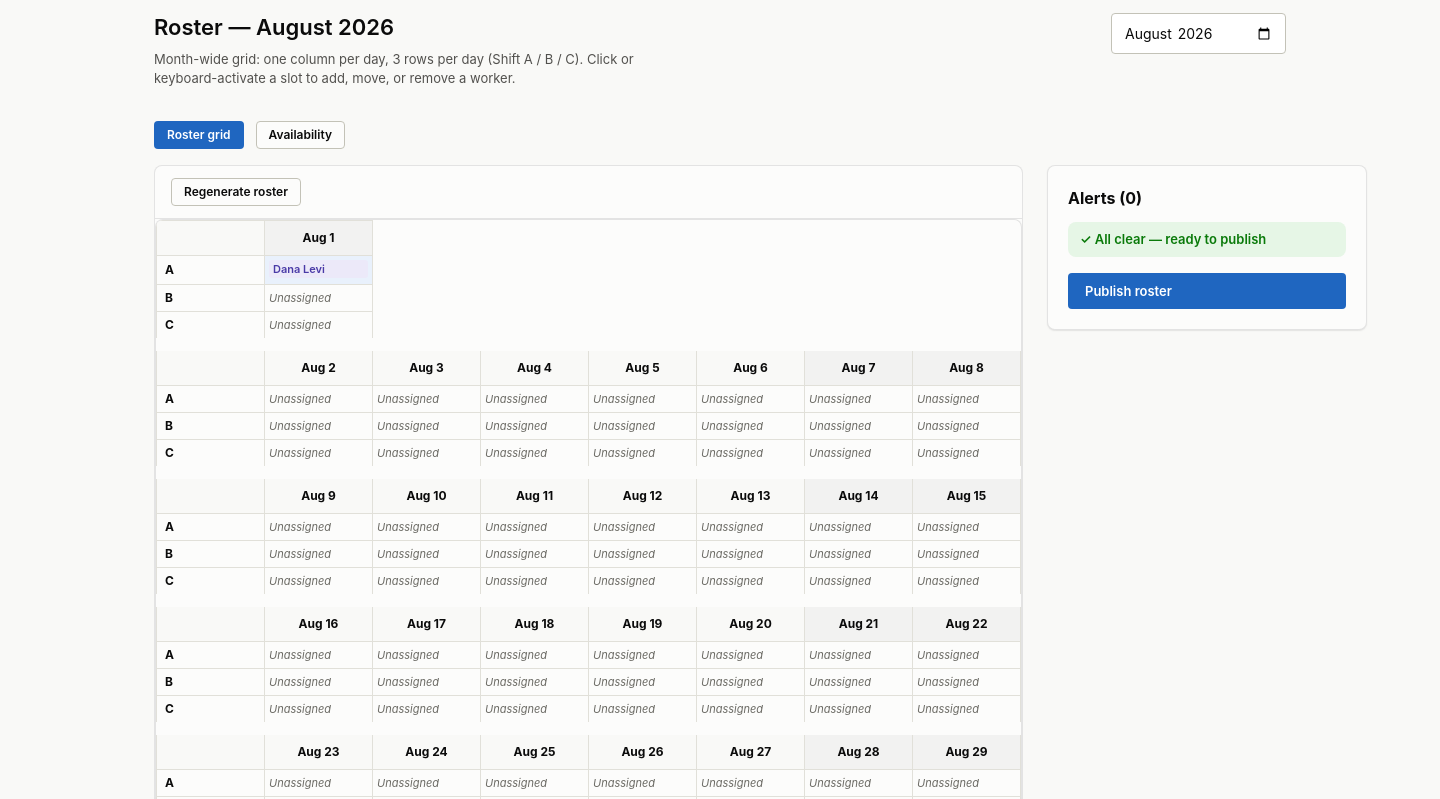
Test: RosterPage › switches to the Availability tab and renders the availability grid instead of the roster calendar
This screenshot has width=1440, height=799.
expect the button "Regenerate roster" is shown: met, box [171,178,301,206]
Click the tab "Availability".
click(300, 135)  # box [256,121,345,149]
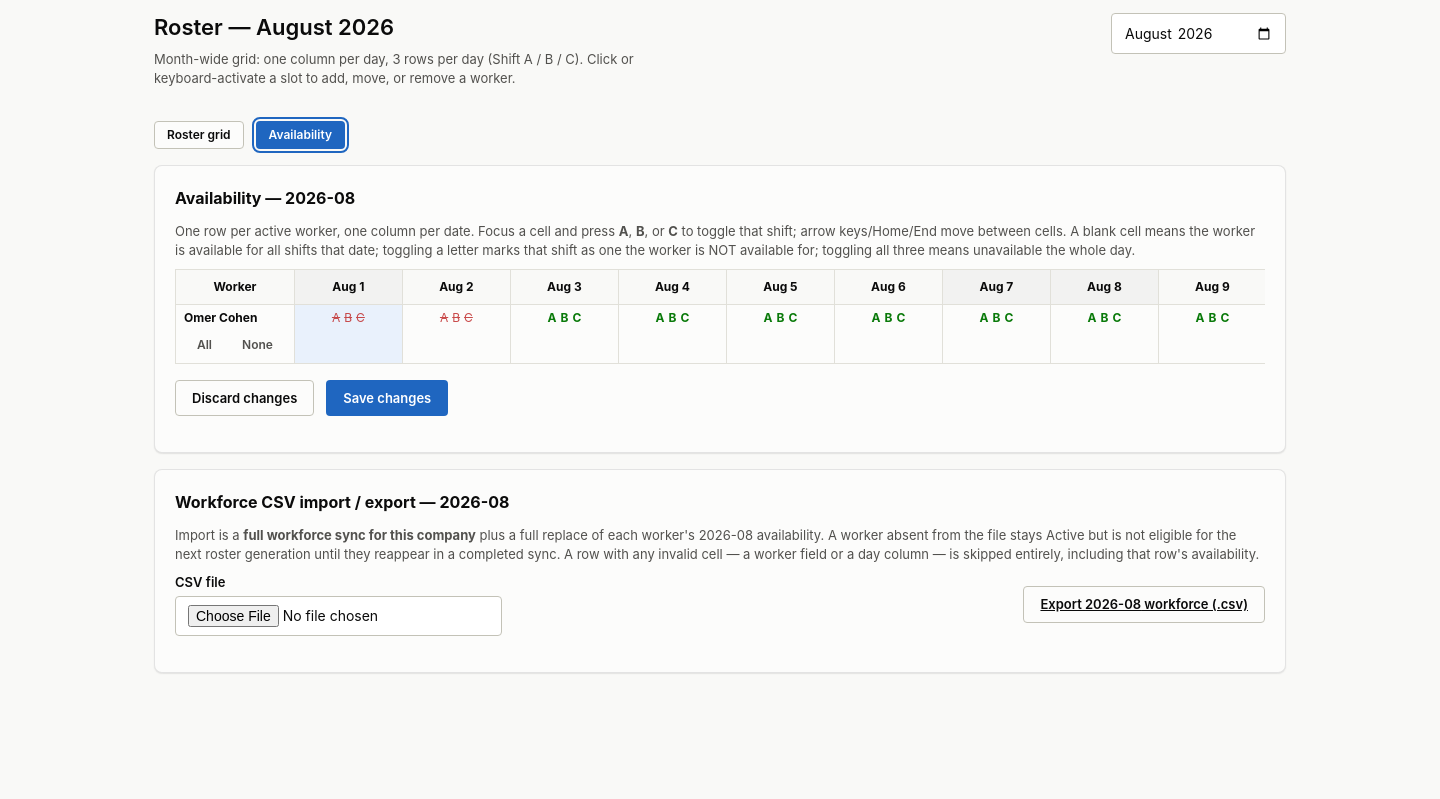
expect the link "Export 2026-08 workforce (.csv)" is shown: met, box [1024,586,1265,623]
Click the tab "Roster grid".
click(199, 135)  # box [154,121,244,149]
(page scrolled)
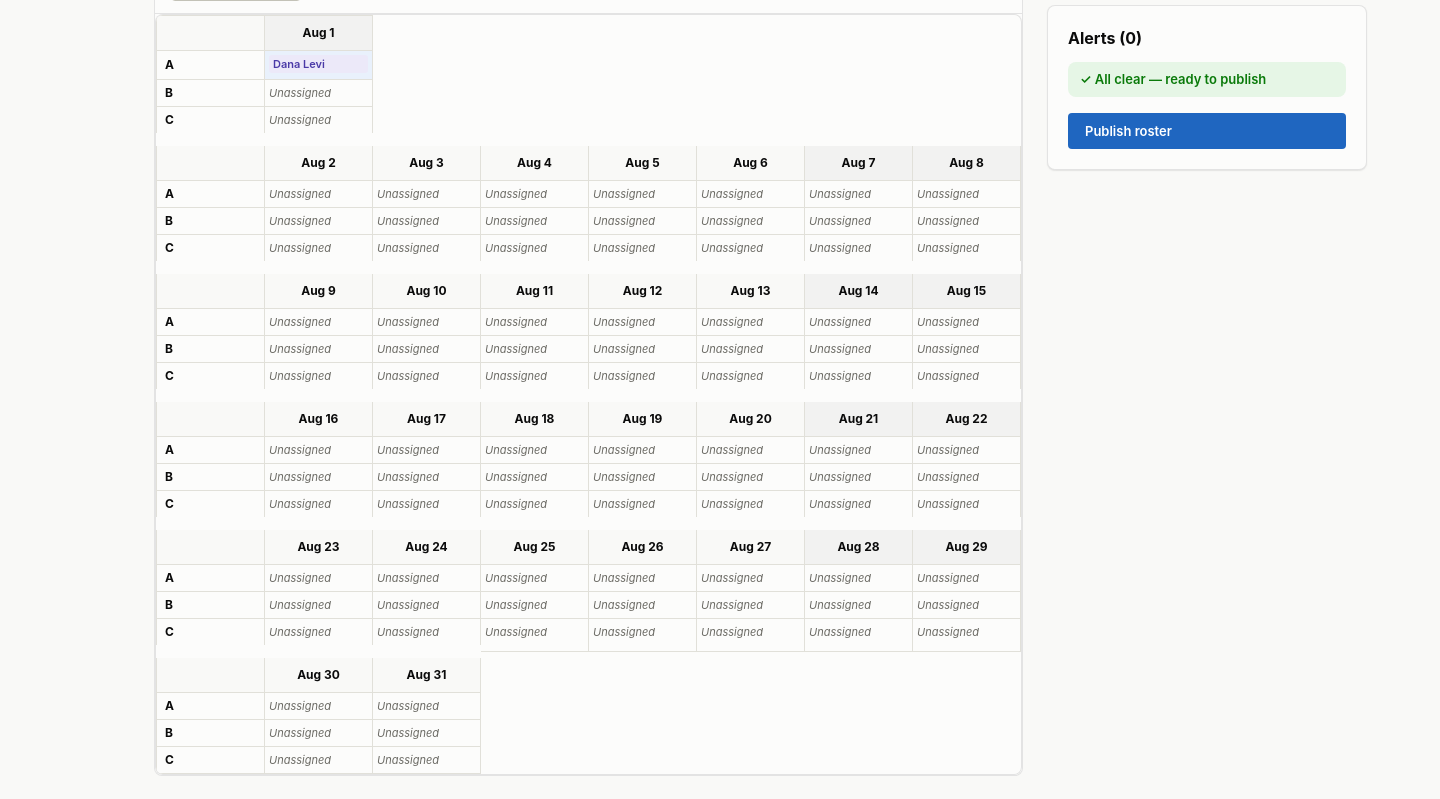
expect the table named "roster grid" is shown: met, box [156,15,1021,774]
